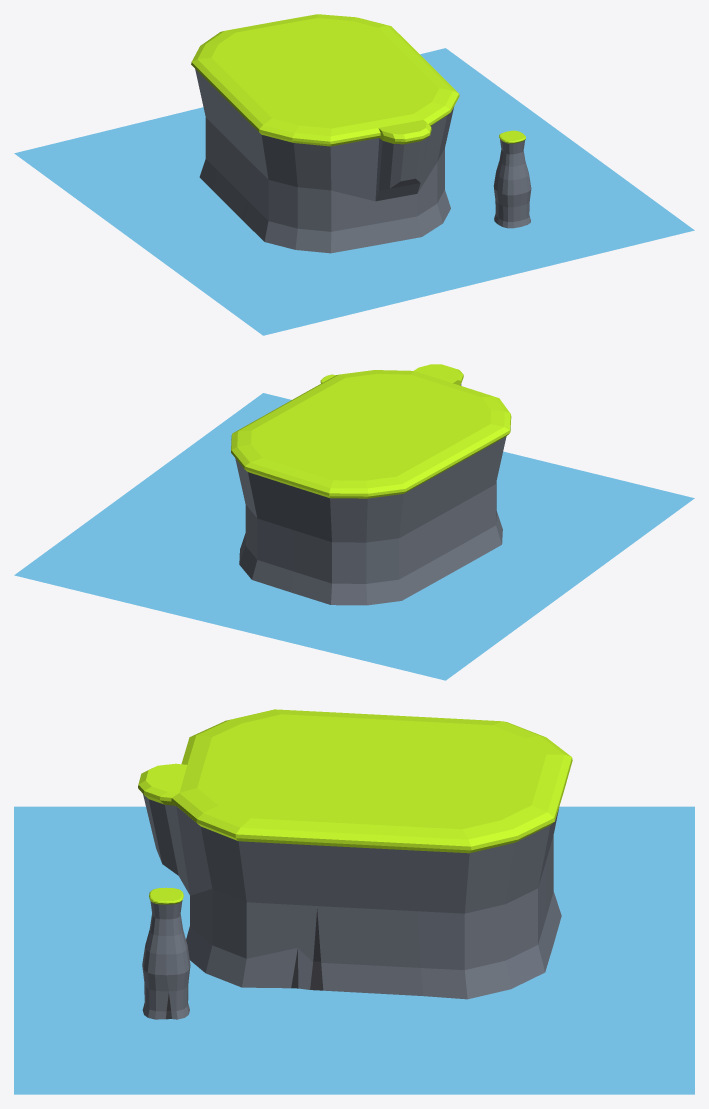
File: Plateau B.fbx
The picture shows the model from 3 angles, top to bottom: view 1: azimuth 30°, elevation 25°; view 2: azimuth 150°, elevation 25°; view 3: azimuth 270°, elevation 25°; orthographic projection. The views are drawn at different scales.
Visible parts, largest first — view 1: Water, Island, Pillar; view 2: Water, Island; view 3: Water, Island, Pillar.
Boxes of the visible parts, <box> form: Water: <box>14,48,694,335</box>; Island: <box>191,14,459,253</box>; Pillar: <box>493,130,531,228</box>; Water: <box>14,393,694,680</box>; Island: <box>231,364,511,605</box>; Water: <box>14,806,694,1094</box>; Island: <box>138,709,572,999</box>; Pillar: <box>142,887,190,1019</box>.
Size of the model in its own units: 1500 by 400 by 1500.
